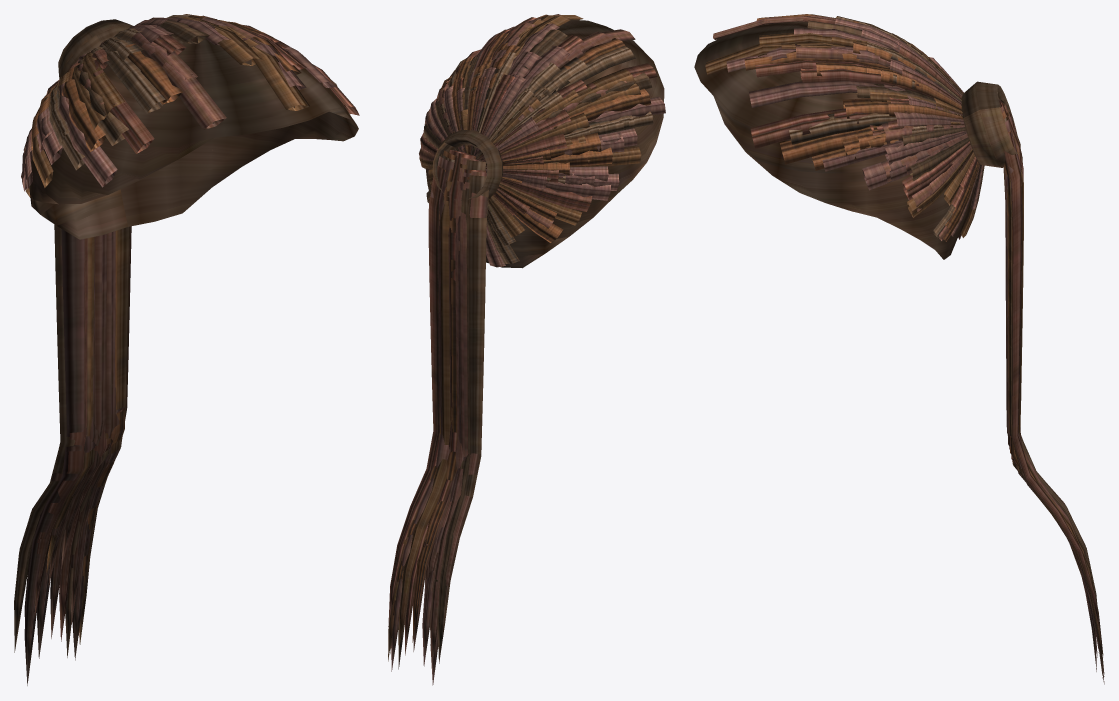
Rendered from rabo.glb.
3 views of the same model, side by side, from view 1: azimuth 30°, elevation 25°; view 2: azimuth 150°, elevation 25°; view 3: azimuth 270°, elevation 25° (orthographic). The views are drawn at different scales.
Visible parts, largest first — view 1: cabelo_rabo; view 2: cabelo_rabo; view 3: cabelo_rabo.
Boxes of the visible parts, bbox=[...] form: cabelo_rabo: bbox=[14, 14, 359, 685]; cabelo_rabo: bbox=[388, 14, 665, 685]; cabelo_rabo: bbox=[694, 14, 1104, 684].
Size of the model in its own units: 0.1627 by 0.4376 by 0.2496.
Materials: 1 (1 with a texture image).
